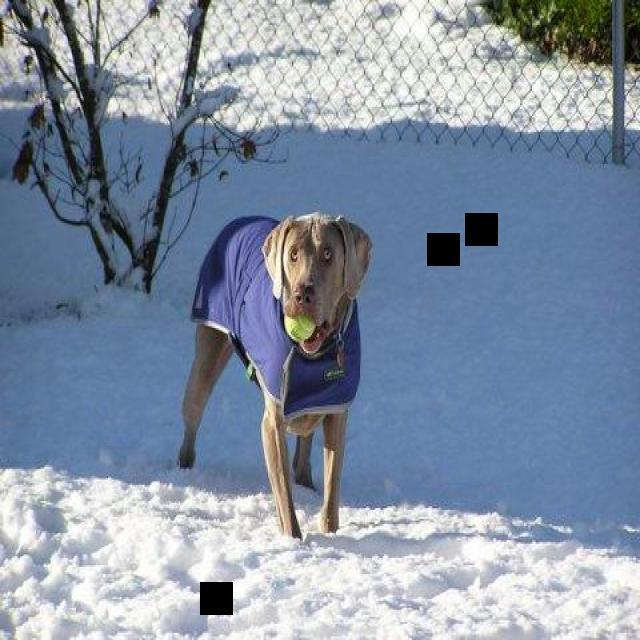adult_dog: (170, 209, 374, 542)
